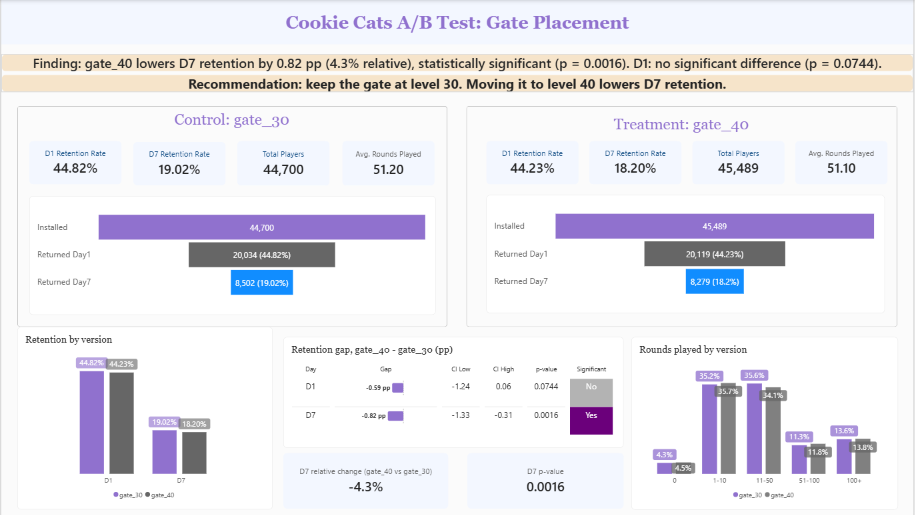

The page's visual inventory and layout, read from the dashboard file:
{"tool":"powerbi","page":{"name":"AB Test","canvas":[1920,1100],"ordinal":0},"visuals":[{"type":"shape","box":[33.1,223.7,905.1,464.9],"z":0},{"type":"shape","box":[0,0,1919.3,93.1],"z":1000},{"type":"textbox","box":[0,20.4,1919.3,72.7],"z":2000},{"type":"funnel","fields":{"Y":["Funnel.Installed","Funnel.D1","Funnel.D7"]},"box":[58.3,412.2,855.6,250],"z":3000},{"type":"cardVisual","fields":{"Data":["Sum(kpi.total_players)"]},"box":[497.1,297.6,194.4,94.4],"z":4000},{"type":"cardVisual","fields":{"Data":["Sum(kpi.avg_rounds_capped)"]},"box":[716.7,297.6,194,94.4],"z":5000},{"type":"cardVisual","fields":{"Data":["Sum(kpi.d7_retention_pct)","select"]},"box":[277.9,298.3,194,91.7],"z":6000},{"type":"textbox","box":[31,227.8,907.1,74.4],"z":7000},{"type":"shape","box":[979.5,223.7,907.1,464.9],"z":8000},{"type":"cardVisual","fields":{"Data":["Sum(kpi.total_players)"]},"box":[1454.4,297.6,194,91],"z":9000},{"type":"cardVisual","fields":{"Data":["Sum(kpi.avg_rounds_capped)"]},"box":[1671.7,297.6,194,91],"z":10000},{"type":"cardVisual","fields":{"Data":["Sum(kpi.d1_retention_pct)","select"]},"box":[1019.8,297.6,194,91],"z":11000},{"type":"cardVisual","fields":{"Data":["Sum(kpi.d7_retention_pct)","select"]},"box":[1237.1,297.6,194,91],"z":12000},{"type":"textbox","box":[979.4,237.8,904.8,74.6],"z":13000},{"type":"clusteredColumnChart","title":"Retention by version","fields":{"Y":["Sum(ab_summary.retention_pct)","select"],"Category":["ab_summary.metric"],"Series":["ab_summary.version"]},"box":[33.3,687.7,537.3,384.3],"z":14000},{"type":"tableEx","title":"Retention gap, gate_40 - gate_30 (pp)","fields":{"Values":["test_results.retention_day","test_results.Diff_PP_Bar_SVG","Sum(test_results.ci_low_pp)","Sum(test_results.ci_high_pp)","Sum(test_results.p_value)","test_results.significant"]},"box":[594.1,709.3,715.7,233.3],"z":15000},{"type":"cardVisual","fields":{"Data":["Sum(test_results.relative_change_pct)","select"]},"box":[594.1,954.4,347.1,117.6],"z":16000},{"type":"cardVisual","fields":{"Data":["Sum(test_results.p_value)"]},"box":[980.4,954.4,329.4,117.6],"z":17000},{"type":"clusteredColumnChart","title":"Rounds played by version","fields":{"Y":["Sum(dagilim.pct_of_version)","select"],"Series":["dagilim.version"],"Category":["Sıra.round_bucket"]},"box":[1326.4,708.8,561,363.4],"z":18000},{"type":"cardVisual","title":"Finding:","fields":{"Data":["test_results.Finding Text","test_results.Recommendation Text"]},"box":[0,113.6,1919.3,81.8],"z":19000},{"type":"cardVisual","fields":{"Data":["Sum(kpi.d1_retention_pct)","select"]},"box":[59.1,297.7,194,91],"z":20000},{"type":"funnel","fields":{"Y":["Funnel.Installed","Funnel.D1","Funnel.D7"]},"box":[1020,411.1,838.3,248.6],"z":21000}]}

Visuals, with their boxes in screenshot pixels (x1, y1, x2, y2), scaled from the page's 1920x1100 canvas onto the 915x515 screenshot:
shape: (16,105,447,322)
shape: (0,0,914,44)
textbox: (0,10,914,44)
funnel - Funnel.Installed x Funnel.D1: (28,193,436,310)
cardVisual - Sum(kpi.total_players): (237,139,330,184)
cardVisual - Sum(kpi.avg_rounds_capped): (342,139,434,184)
cardVisual - Sum(kpi.d7_retention_pct) x select: (132,140,225,183)
textbox: (15,107,447,141)
shape: (467,105,899,322)
cardVisual - Sum(kpi.total_players): (693,139,786,182)
cardVisual - Sum(kpi.avg_rounds_capped): (797,139,889,182)
cardVisual - Sum(kpi.d1_retention_pct) x select: (486,139,578,182)
cardVisual - Sum(kpi.d7_retention_pct) x select: (590,139,682,182)
textbox: (467,111,898,146)
"Retention by version" clusteredColumnChart: (16,322,272,502)
"Retention gap, gate_40 - gate_30 (pp)" tableEx: (283,332,624,441)
cardVisual - Sum(test_results.relative_change_pct) x select: (283,447,449,502)
cardVisual - Sum(test_results.p_value): (467,447,624,502)
"Rounds played by version" clusteredColumnChart: (632,332,899,502)
"Finding:" cardVisual: (0,53,914,91)
cardVisual - Sum(kpi.d1_retention_pct) x select: (28,139,121,182)
funnel - Funnel.Installed x Funnel.D1: (486,192,886,309)
